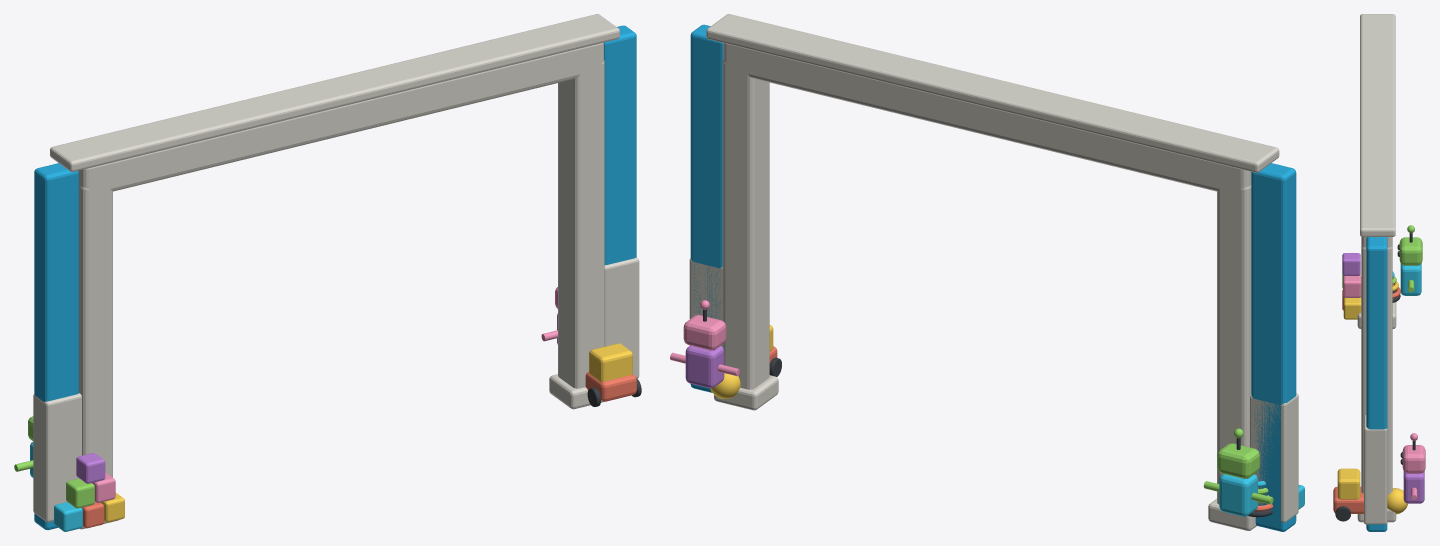
Rendered from toybox_bedroom_run_frame.glb.
3 views of the same model, side by side, from view 1: azimuth 30°, elevation 25°; view 2: azimuth 150°, elevation 25°; view 3: azimuth 270°, elevation 25° (orthographic). The views are drawn at different scales.
Parts seen in each view (by area): view 1: Doorway Crown, Doorway Header, Right Doorway Pillar, Left Wallpaper Wing, Left Doorway Pillar, Right Wallpaper Wing, Left Wainscot Wing, Right Wainscot Wing, Right Train Cab, Right Train Body, Right Door Plinth, Left Alphabet Block 6 (+2 smaller); view 2: Doorway Crown, Doorway Header, Right Doorway Pillar, Left Wallpaper Wing, Left Doorway Pillar, Right Wallpaper Wing, Left Wainscot Wing, Right Wainscot Wing, Right Robot Body, Left Robot Body, Right Robot Head, Left Robot Head (+2 smaller); view 3: Doorway Crown, Right Wallpaper Wing, Right Doorway Pillar, Right Wainscot Wing, Right Train Cab, Left Robot Head, Right Robot Head, Left Robot Body, Right Robot Body, Right Train Body, Left Alphabet Block 6, Left Alphabet Block 5 (+5 smaller).
Part boxes in pixels (left/top/right/bottom): Doorway Crown: left=50, top=14, right=619, bottom=171; Doorway Header: left=78, top=42, right=603, bottom=193; Right Doorway Pillar: left=558, top=60, right=604, bottom=388; Left Wallpaper Wing: left=34, top=163, right=78, bottom=529; Left Doorway Pillar: left=79, top=185, right=112, bottom=477; Right Wallpaper Wing: left=604, top=25, right=636, bottom=265; Left Wainscot Wing: left=33, top=393, right=81, bottom=522; Right Wainscot Wing: left=604, top=257, right=639, bottom=378; Right Train Cab: left=589, top=343, right=632, bottom=381; Right Train Body: left=585, top=371, right=636, bottom=401; Right Door Plinth: left=549, top=374, right=604, bottom=409; Left Alphabet Block 6: left=76, top=453, right=105, bottom=483; Doorway Crown: left=706, top=14, right=1279, bottom=172; Doorway Header: left=723, top=43, right=1251, bottom=193; Right Doorway Pillar: left=722, top=60, right=769, bottom=389; Left Wallpaper Wing: left=1251, top=163, right=1296, bottom=531; Left Doorway Pillar: left=1217, top=185, right=1251, bottom=504; Right Wallpaper Wing: left=690, top=24, right=723, bottom=392; Left Wainscot Wing: left=1250, top=393, right=1298, bottom=522; Right Wainscot Wing: left=689, top=258, right=722, bottom=346; Right Robot Body: left=685, top=345, right=724, bottom=388; Left Robot Body: left=1219, top=474, right=1257, bottom=516; Right Robot Head: left=683, top=315, right=726, bottom=350; Left Robot Head: left=1217, top=443, right=1259, bottom=478; Doorway Crown: left=1360, top=14, right=1395, bottom=236; Right Wallpaper Wing: left=1366, top=237, right=1387, bottom=531; Right Doorway Pillar: left=1361, top=246, right=1392, bottom=495; Right Wainscot Wing: left=1364, top=415, right=1387, bottom=524; Right Train Cab: left=1337, top=468, right=1360, bottom=499; Left Robot Head: left=1399, top=237, right=1422, bottom=265; Right Robot Head: left=1402, top=445, right=1425, bottom=473; Left Robot Body: left=1400, top=263, right=1421, bottom=295; Right Robot Body: left=1403, top=471, right=1424, bottom=503; Right Train Body: left=1333, top=486, right=1363, bottom=513; Left Alphabet Block 6: left=1342, top=253, right=1360, bottom=275; Left Alphabet Block 5: left=1343, top=275, right=1361, bottom=297.
Size of the model in its own units: 12.63 by 7.5 by 2.1.
